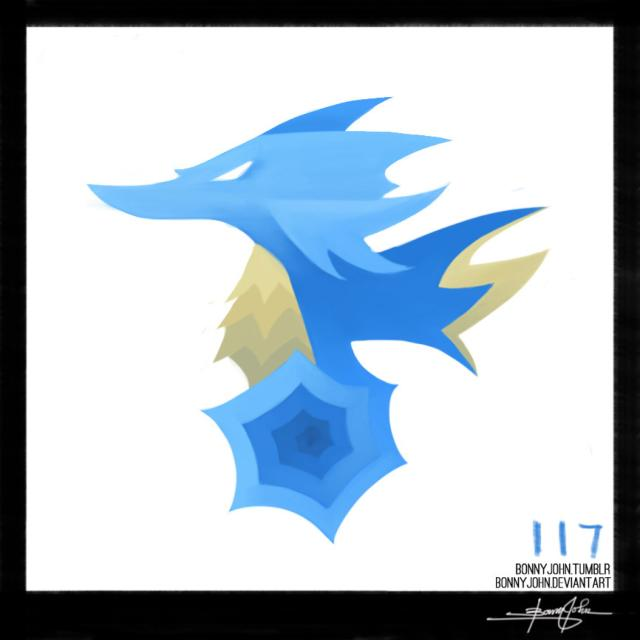Seadra: (82, 73, 540, 549)
